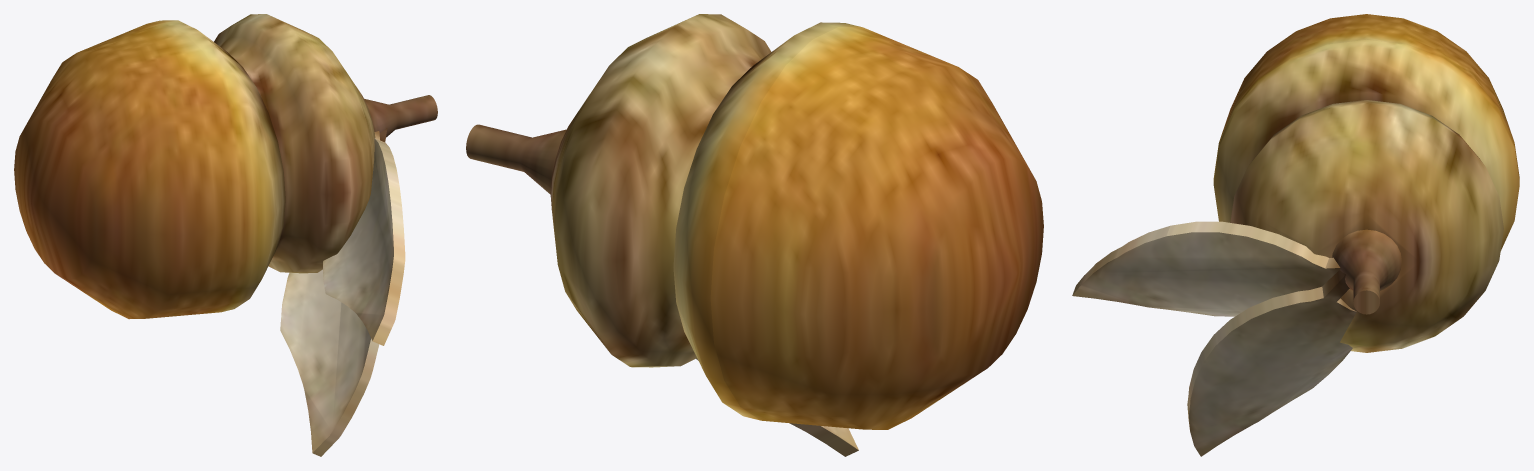
The model's file is Chamomile.fbx.
The picture shows the model from 3 angles, left to right: view 1: azimuth 30°, elevation 25°; view 2: azimuth 150°, elevation 25°; view 3: azimuth 270°, elevation 25°; orthographic projection. The views are drawn at different scales.
Parts seen in each view (by area): view 1: OuterShell; view 2: OuterShell; view 3: OuterShell.
Part boxes in pixels (x1,y1,x2,y2): OuterShell: (14,14,437,456); OuterShell: (466,14,1043,456); OuterShell: (1072,14,1519,456).
Size of the model in its own units: 13.08 by 11.92 by 12.43.
